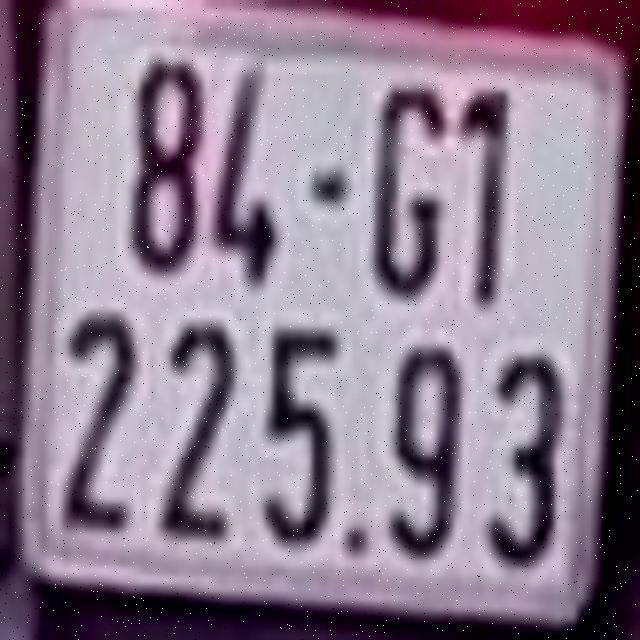1: (458, 85, 512, 306)
2: (63, 310, 134, 532), (163, 320, 233, 541)
3: (489, 348, 564, 567)
4: (214, 62, 278, 288)
5: (264, 325, 338, 545)
8: (131, 56, 201, 273)
9: (389, 340, 459, 559)
G: (371, 80, 448, 296)
